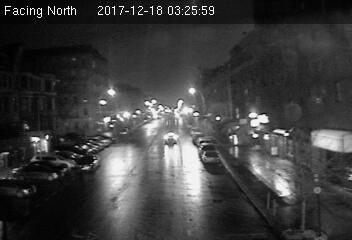car: (73, 154, 100, 171), (201, 151, 221, 165), (162, 131, 178, 144)
